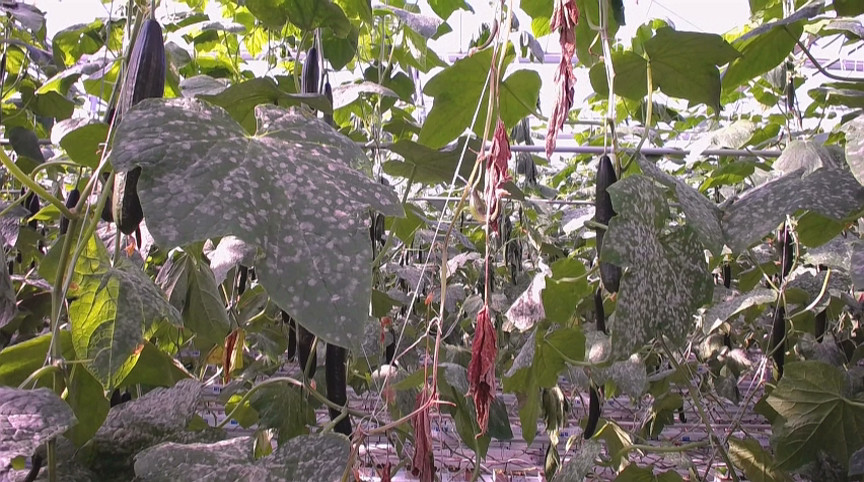cucumber: (113, 19, 167, 232), (591, 156, 624, 291), (327, 341, 354, 440), (297, 321, 318, 380), (583, 382, 603, 441), (300, 46, 321, 95)
